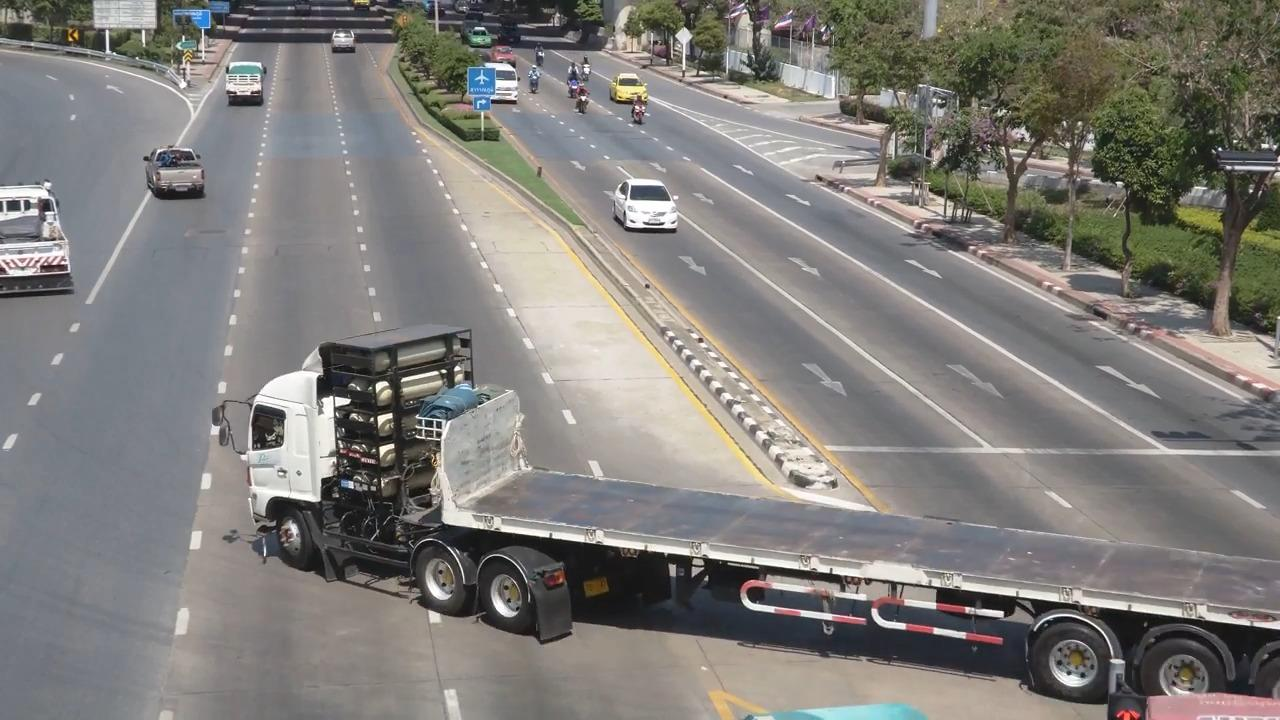CAR: (0, 174, 96, 313), (598, 164, 692, 248), (134, 137, 216, 214), (214, 49, 279, 119), (315, 20, 373, 64), (603, 67, 652, 110), (480, 56, 520, 106)
HGV_BUS: (211, 299, 1280, 720)
MOTOR: (526, 60, 544, 101), (579, 53, 599, 79), (576, 83, 590, 113)
